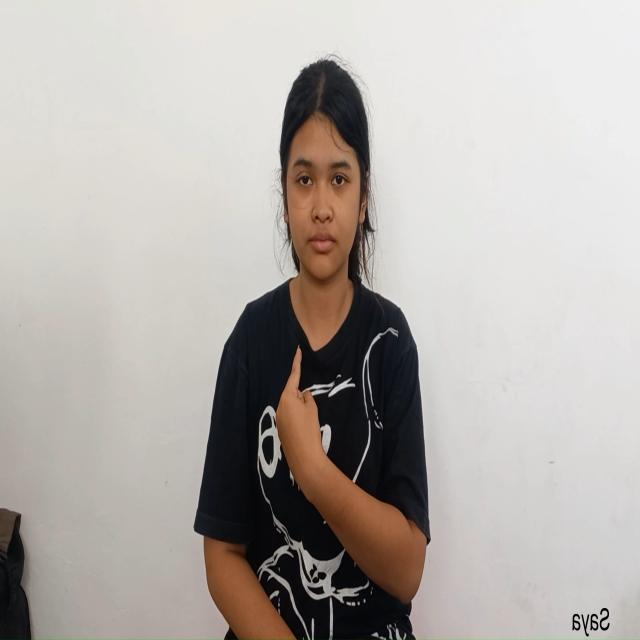Saya -BISINDO-: (273, 337, 429, 618)
